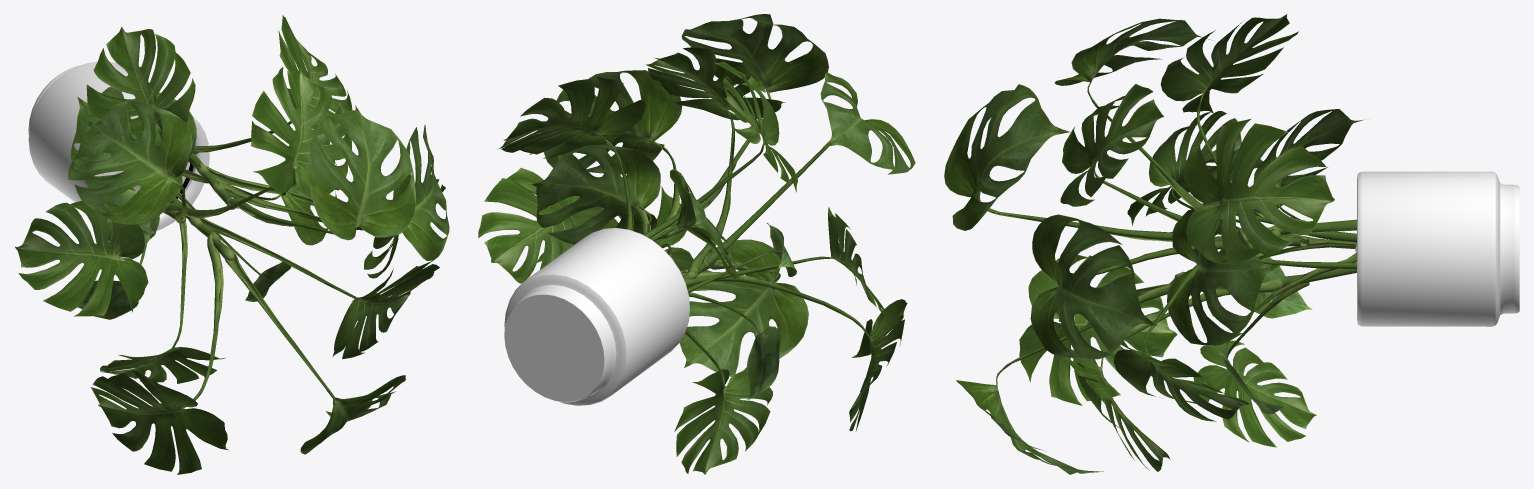
File: small-monstera-opt.glb
3 renders of one model, left to right at view 1: azimuth 30°, elevation 25°; view 2: azimuth 150°, elevation 25°; view 3: azimuth 270°, elevation 25°, orthographic. The views are drawn at different scales.
Parts seen in each view (by area): view 1: Leaves, Pot.003; view 2: Leaves, Pot.003; view 3: Leaves, Pot.003.
Boxes of the visible parts, left/top/right/bottom form: Leaves: left=15, top=15, right=449, bottom=474; Pot.003: left=28, top=61, right=209, bottom=230; Leaves: left=478, top=14, right=915, bottom=474; Pot.003: left=504, top=228, right=689, bottom=405; Leaves: left=944, top=14, right=1364, bottom=474; Pot.003: left=1357, top=171, right=1519, bottom=326.
Size of the model in its own units: 0.4398 by 0.3948 by 0.4942.
Materials: 4 (1 with a texture image).
